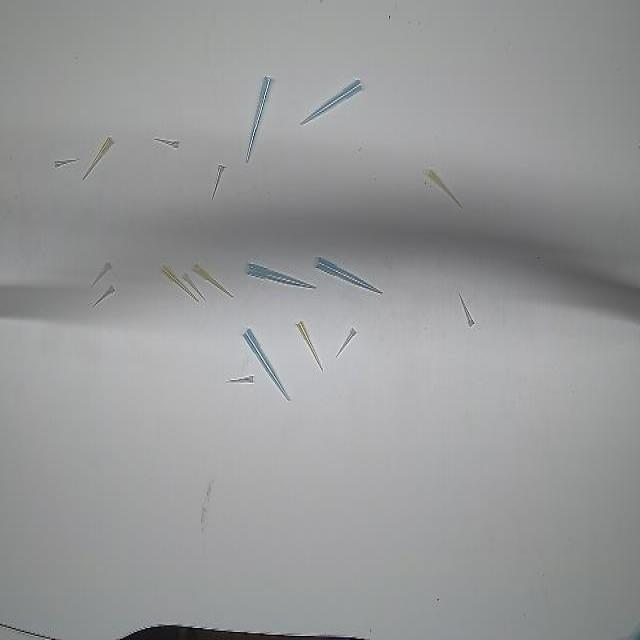Micropipette Tip 10 uL: (180, 267, 208, 304), (457, 288, 479, 328), (337, 324, 359, 362), (210, 160, 229, 200), (92, 282, 119, 310), (90, 260, 114, 288), (224, 372, 258, 390), (154, 133, 181, 152), (54, 154, 82, 170)
Micropipette Tip 1000 uL: (239, 323, 295, 406), (298, 77, 367, 130), (314, 252, 387, 297), (244, 74, 274, 167), (244, 258, 318, 292)
Micropipette Tip 200 uL: (424, 163, 466, 213), (294, 316, 325, 376), (82, 134, 116, 185), (192, 262, 236, 300), (160, 265, 200, 305)
